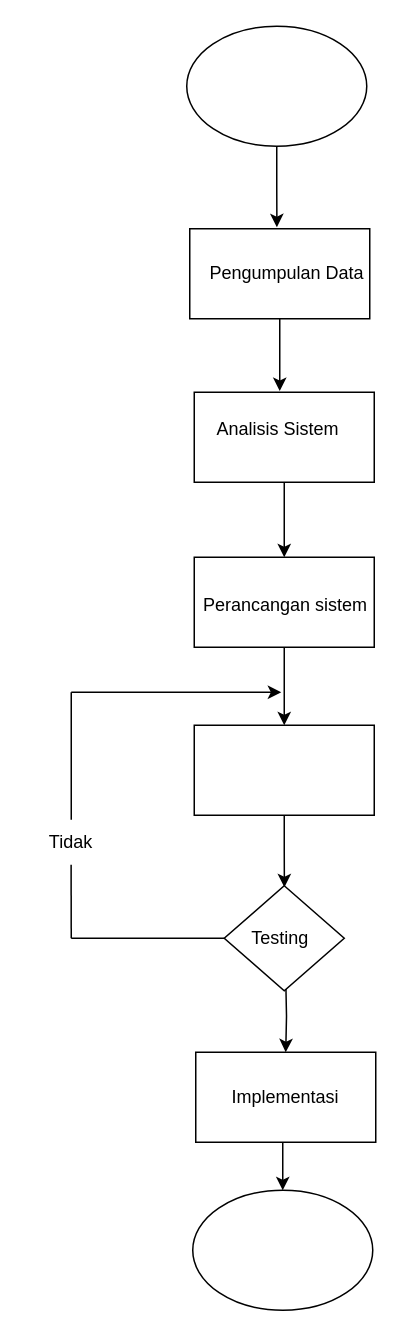
The diagram is 402 pixels wide and 1337 high, and some of its shapes have lost their labels. The box of each missing label's shape, as (x1, y1, x2, y2) in pixels:
Finish: (191, 1189, 373, 1310)
Kontruksi: (193, 724, 374, 815)
Start: (185, 25, 367, 146)
